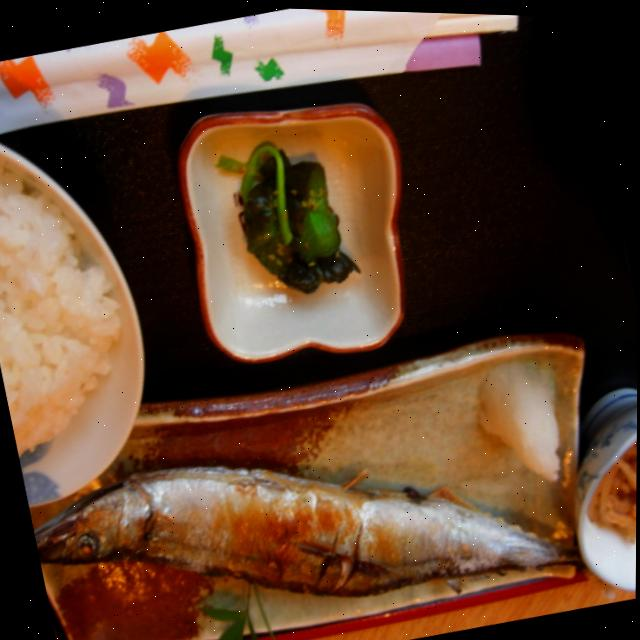熟制海鲜: (25, 380, 610, 640)
